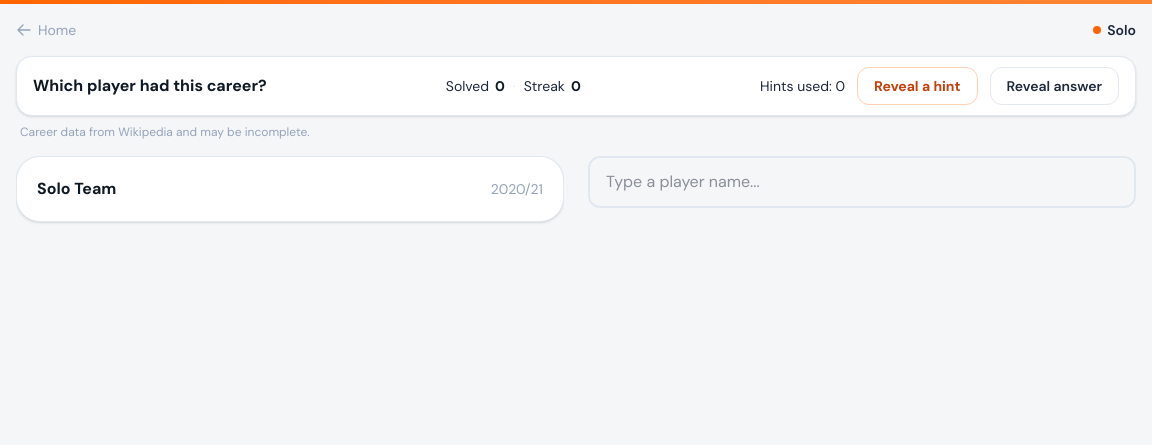
Test case: CareerQuizBoard multiplayer reveals › uses the same feedback tones in solo mode
Type "Solo Miss" into the field with placeholder "Type a player name...".
click(862, 182); type("Solo Miss")  # box [588,156,1136,208]
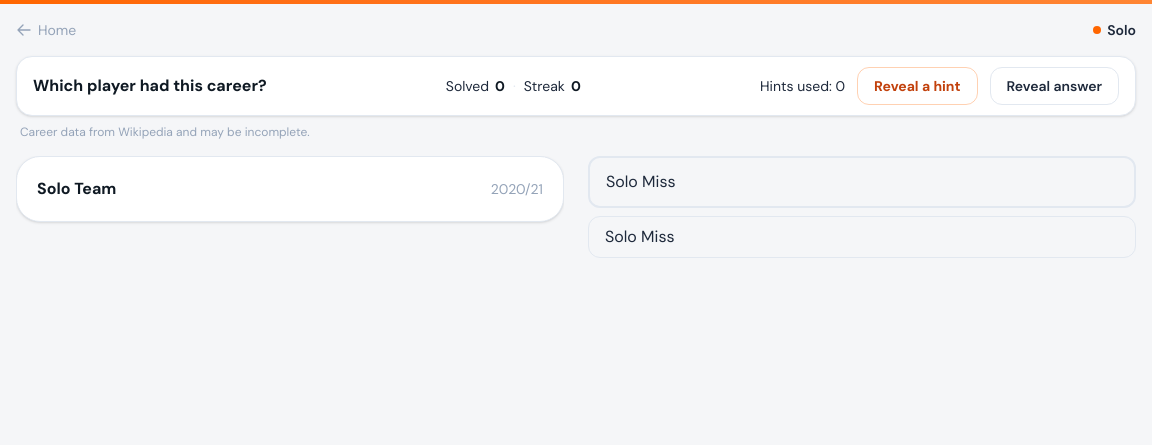
Click the button "Solo Miss".
click(640, 236)  # box [589,217,1135,257]
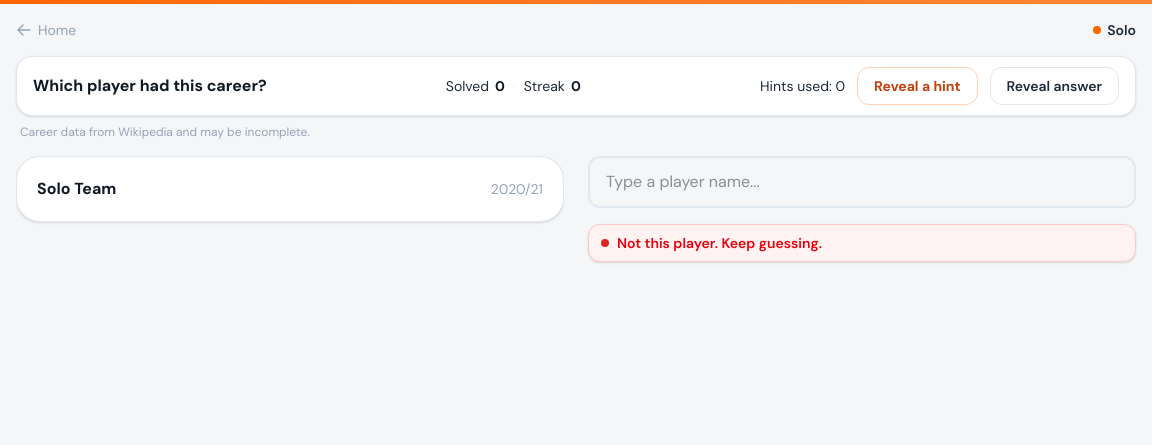
Check: the message with test id "career-feedback-message" reads "Not this player. Keep guessing.", box [617,234,822,252]
Type "Solo Hit" into the field with placeholder "Type a player name...".
click(862, 182); type("Solo Hit")  # box [588,156,1136,208]
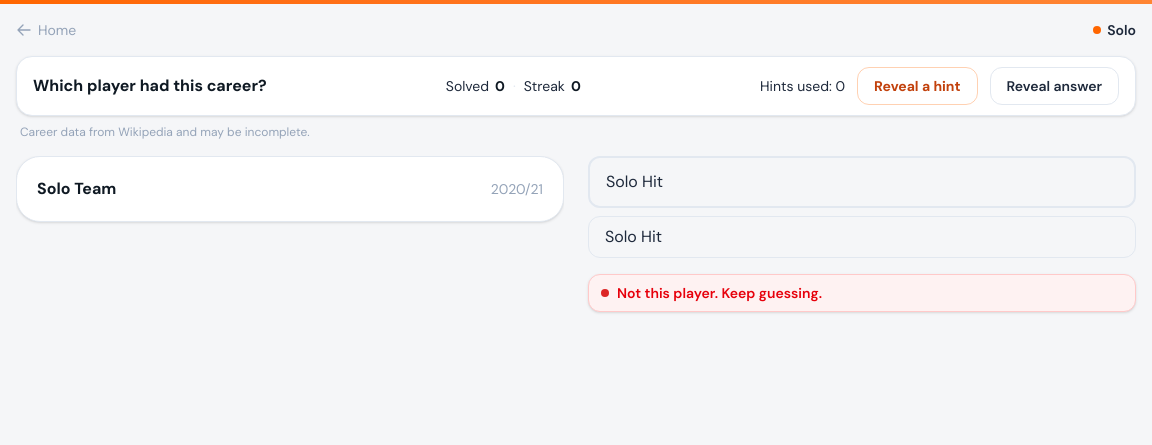
Click the button "Solo Hit".
click(634, 236)  # box [589,217,1135,257]
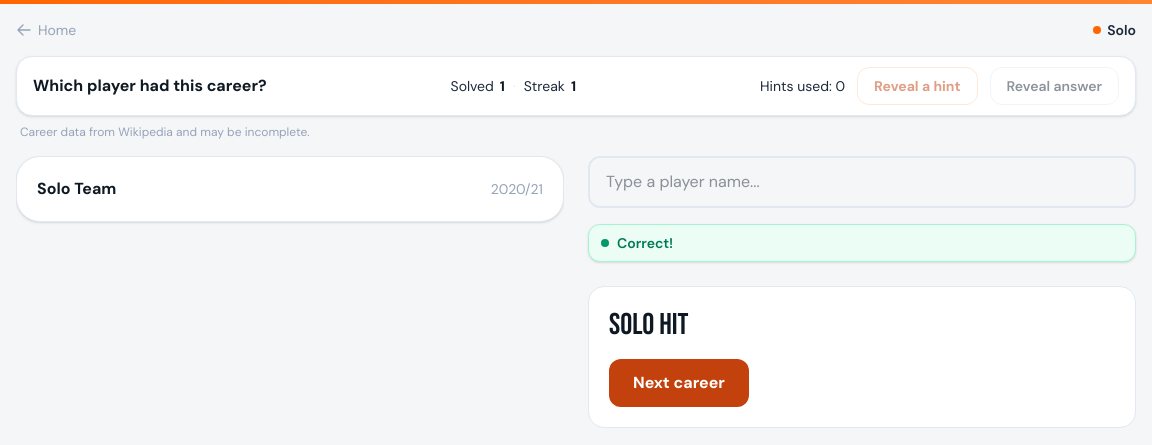
Check: the message with test id "career-feedback-message" reads "Correct!", box [617,234,673,252]
